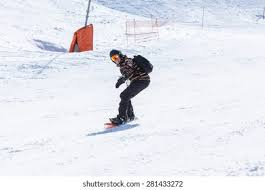snowboarder: (88, 46, 166, 134)
